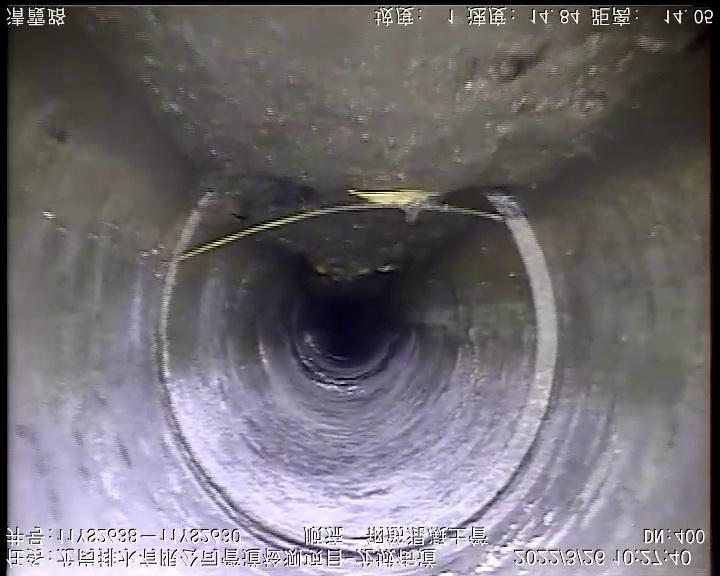CJ: (79, 8, 696, 225), (254, 210, 463, 300)
CKTJ: (151, 190, 308, 550), (422, 190, 558, 526)
YWCR: (172, 189, 503, 264)
